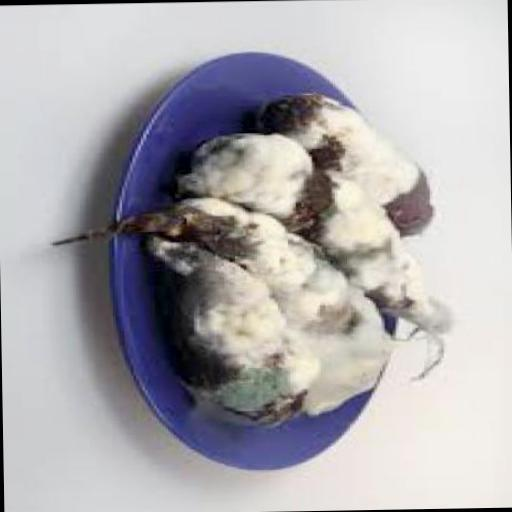biodegradable: (52, 190, 398, 414), (177, 123, 464, 381), (142, 226, 325, 430), (260, 84, 440, 235)
